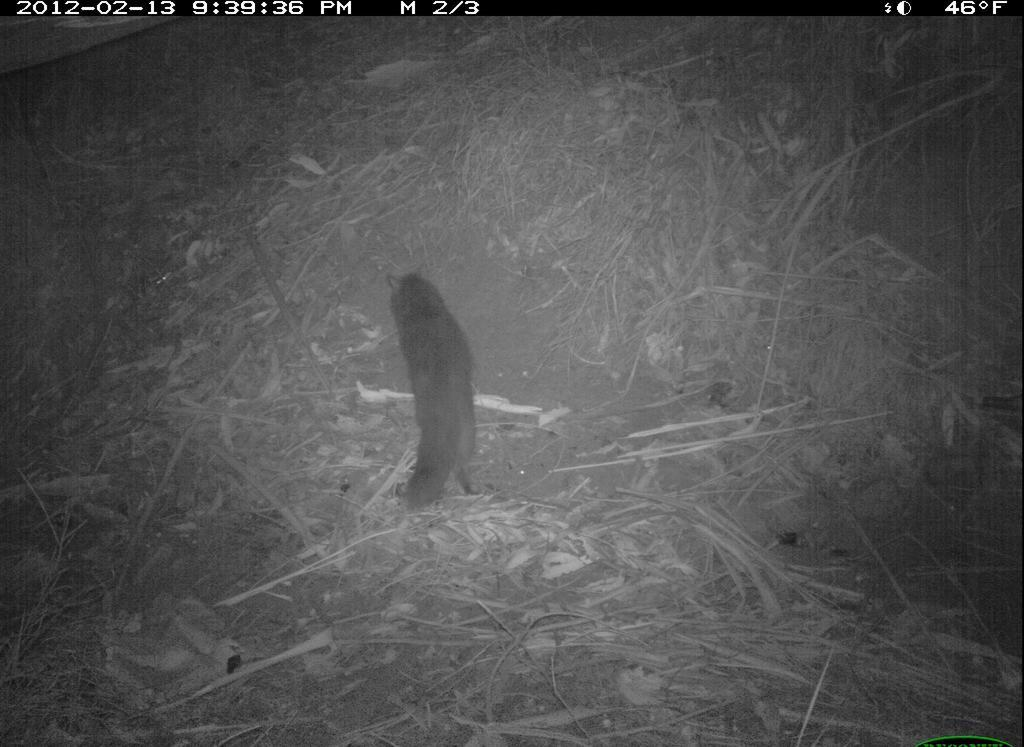cat: (345, 262, 500, 518)
